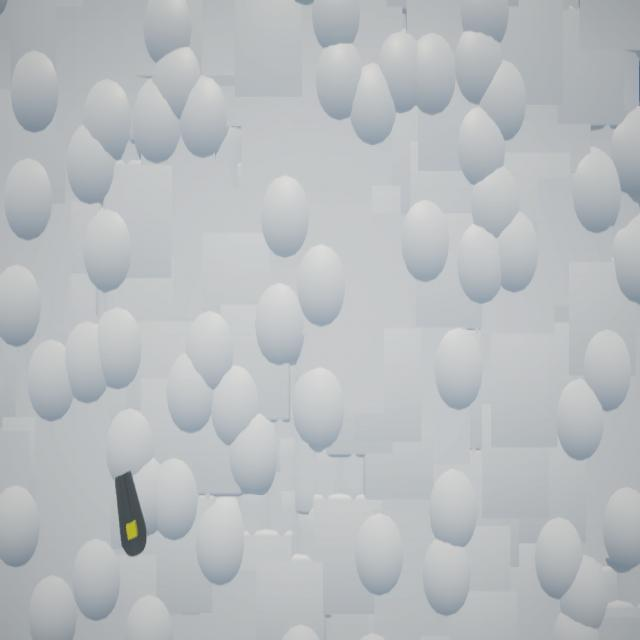handle_folk: (116, 472, 148, 558)
